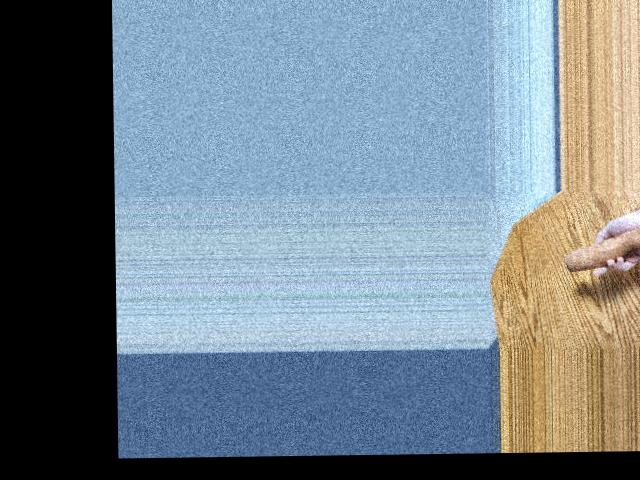sweet_potato: (562, 217, 640, 273)
